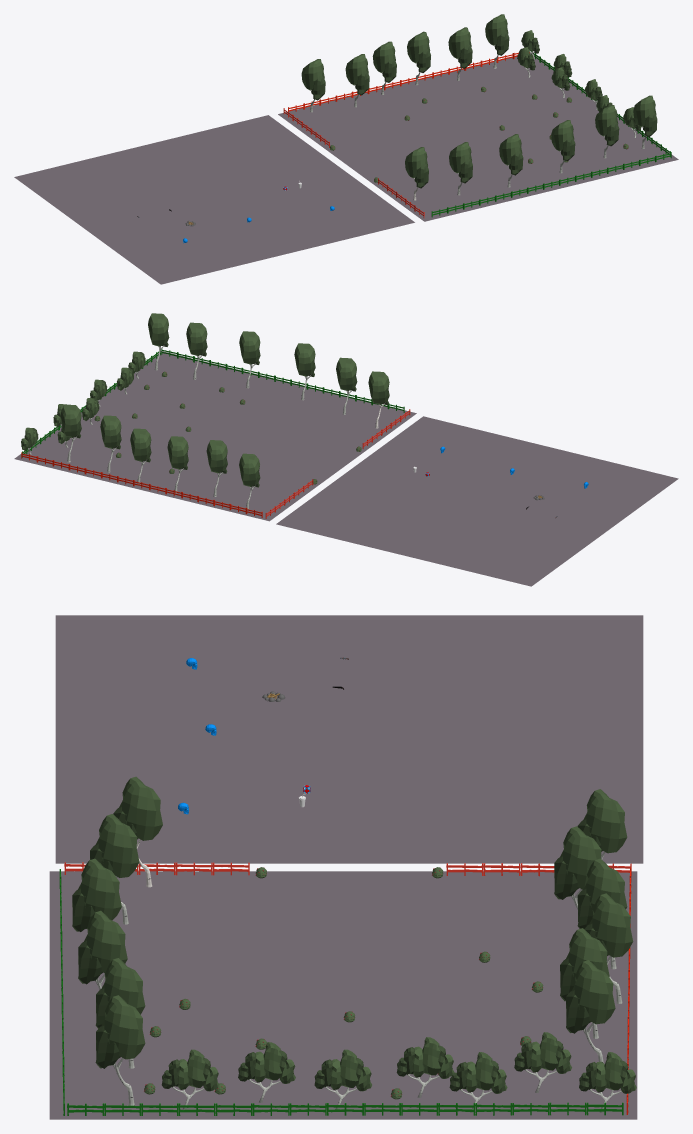
3 renders of one model, top to bottom at view 1: azimuth 30°, elevation 25°; view 2: azimuth 150°, elevation 25°; view 3: azimuth 270°, elevation 25°, orthographic. The views are drawn at different scales.
Visible parts, largest first — view 1: ground, forest, Fence.001, Fence, BirchTree_2_Cube.009, BirchTree_2_Cube.003, BirchTree_2_Cube.000, BirchTree_2_Cube.004, BirchTree_2_Cube.011, BirchTree_2_Cube.002, BirchTree_2_Cube.005, BirchTree_2_Cube.006 (+4 smaller); view 2: ground, forest, Fence, Fence.001, BirchTree_2_Cube.007, BirchTree_2_Cube.006, BirchTree_2_Cube.005, BirchTree_2_Cube.008, BirchTree_2_Cube.009, BirchTree_2_Cube.012, BirchTree_2_Cube.002, BirchTree_2_Cube.004 (+4 smaller); view 3: ground, forest, Fence.002, BirchTree_2_Cube.003, BirchTree_2_Cube.009, BirchTree_2_Cube.007, BirchTree_2_Cube.005, BirchTree_2_Cube.011, BirchTree_2_Cube.012, BirchTree_2_Cube.001, BirchTree_2_Cube.004, BirchTree_2_Cube.000 (+12 smaller).
Boxes of the visible parts, <box> form: ground: <box>14,115,414,284</box>; forest: <box>278,52,678,221</box>; Fence.001: <box>431,152,671,217</box>; Fence: <box>288,52,529,111</box>; BirchTree_2_Cube.009: <box>485,14,509,68</box>; BirchTree_2_Cube.003: <box>633,95,657,148</box>; BirchTree_2_Cube.000: <box>301,59,325,112</box>; BirchTree_2_Cube.004: <box>407,31,430,85</box>; BirchTree_2_Cube.011: <box>345,54,369,107</box>; BirchTree_2_Cube.002: <box>372,41,396,94</box>; BirchTree_2_Cube.005: <box>499,134,523,187</box>; BirchTree_2_Cube.006: <box>448,27,472,80</box>; ground: <box>276,416,678,586</box>; forest: <box>14,351,416,521</box>; Fence: <box>21,452,262,517</box>; Fence.001: <box>161,349,404,412</box>; BirchTree_2_Cube.007: <box>239,331,260,388</box>; BirchTree_2_Cube.006: <box>100,415,121,472</box>; BirchTree_2_Cube.005: <box>294,343,315,400</box>; BirchTree_2_Cube.008: <box>186,322,207,379</box>; BirchTree_2_Cube.009: <box>60,404,81,462</box>; BirchTree_2_Cube.012: <box>368,371,389,428</box>; BirchTree_2_Cube.002: <box>167,436,188,493</box>; BirchTree_2_Cube.004: <box>130,428,151,484</box>; ground: <box>55,615,643,863</box>; forest: <box>49,871,637,1119</box>; Fence.002: <box>67,1102,623,1115</box>; BirchTree_2_Cube.003: <box>95,995,145,1105</box>; BirchTree_2_Cube.009: <box>566,960,615,1062</box>; BirchTree_2_Cube.007: <box>78,910,127,989</box>; BirchTree_2_Cube.005: <box>72,858,121,931</box>; BirchTree_2_Cube.011: <box>554,826,601,909</box>; BirchTree_2_Cube.012: <box>113,776,162,887</box>; BirchTree_2_Cube.001: <box>90,814,139,924</box>; BirchTree_2_Cube.004: <box>584,893,633,1003</box>; BirchTree_2_Cube.000: <box>577,789,627,859</box>.
Size of the model in its own units: 203 by 21.15 by 101.
Materials: 164 (1 with a texture image).
